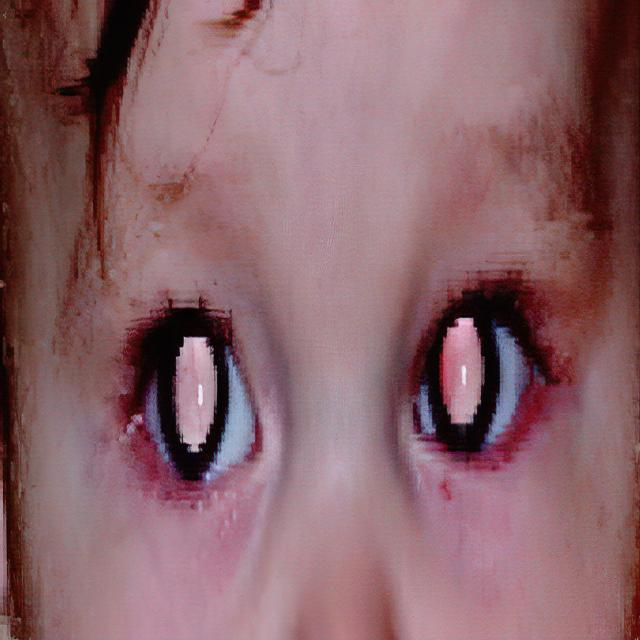reflexo-alterado: (131, 234, 283, 529), (384, 239, 547, 512)
